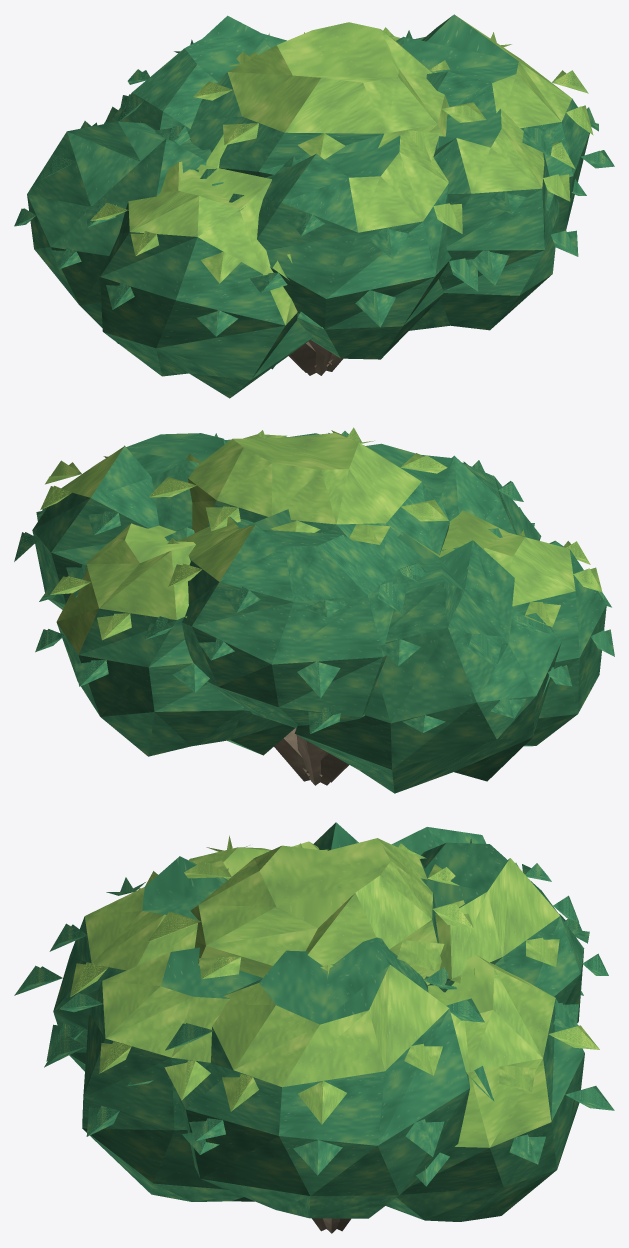
File: MyrtleBush.fbx
3 renders of one model, top to bottom at view 1: azimuth 30°, elevation 25°; view 2: azimuth 150°, elevation 25°; view 3: azimuth 270°, elevation 25°, orthographic. The views are drawn at different scales.
Parts seen in each view (by area): view 1: MyrtleBush; view 2: MyrtleBush; view 3: MyrtleBush.
Boxes of the visible parts, bbox=[...] form: MyrtleBush: bbox=[14, 14, 614, 398]; MyrtleBush: bbox=[14, 427, 614, 793]; MyrtleBush: bbox=[14, 822, 614, 1233].
Size of the model in its own units: 300 by 176 by 251.
Materials: 1 (1 with a texture image).
